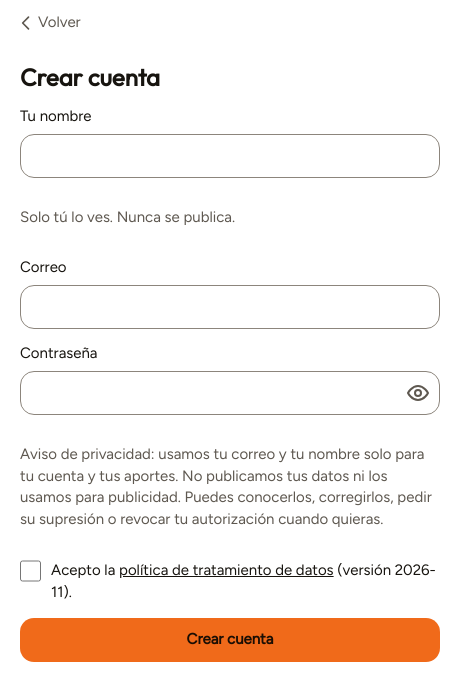
crear cuenta › sin aceptar la política no crea la cuenta y dice por qué
The image size is (457, 674).
Type "Ana María" into the field labelled "Tu nombre".
click(230, 156); type("Ana María")  # box [20,134,440,178]
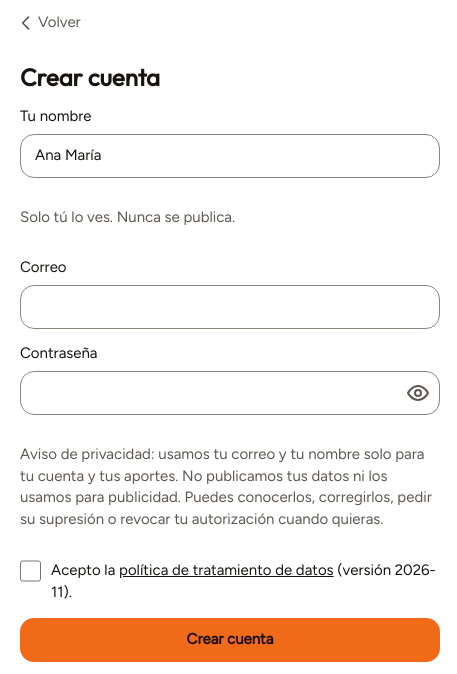
Type "ana@correo.co" into the field labelled "Correo".
click(230, 307); type("ana@correo.co")  # box [20,285,440,329]
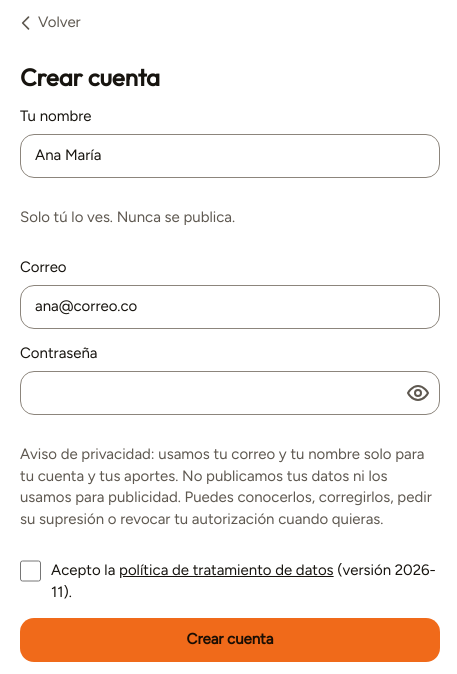
Type "una clave larga" into the password field labelled "Contraseña".
click(230, 393); type("una clave larga")  # box [20,371,440,415]
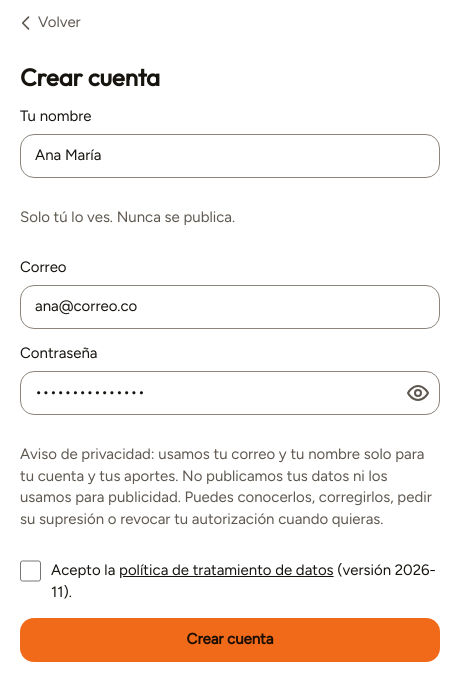
Click the button "Crear cuenta".
click(230, 640)  # box [20,618,440,662]
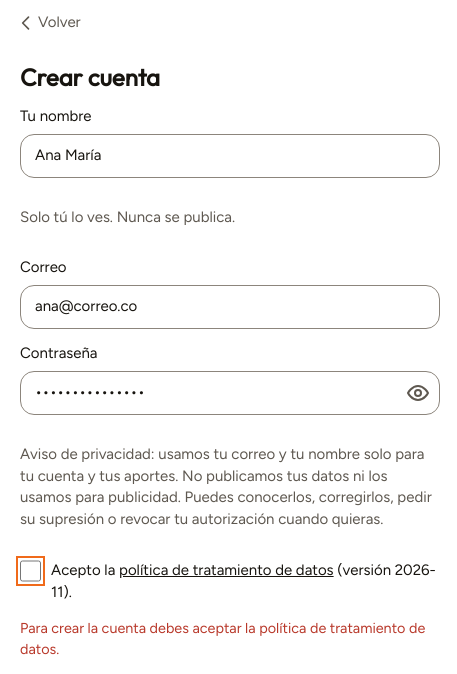
Result: the message reads "Para crear la cuenta debes aceptar la política de tratamiento de datos." at [20,619,425,658]
